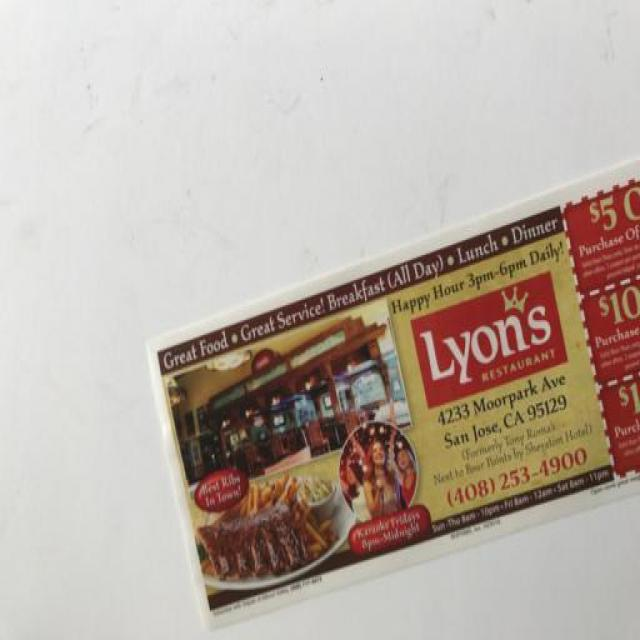paper: (142, 149, 640, 604)
